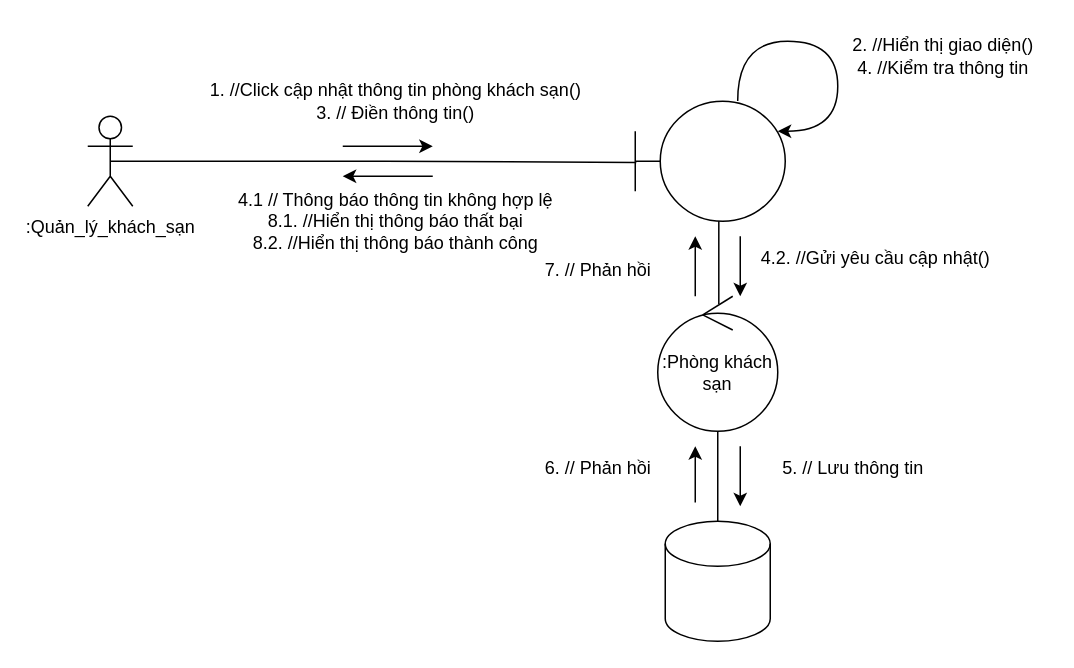
Image size: 1074x668. Some labels were removed from this diagram. The centre of each missing label's shape, as x and y in pixels:
: Giao diện cập nhật: point (709, 160)
Cơ sở dữ liệu: point (717, 580)
